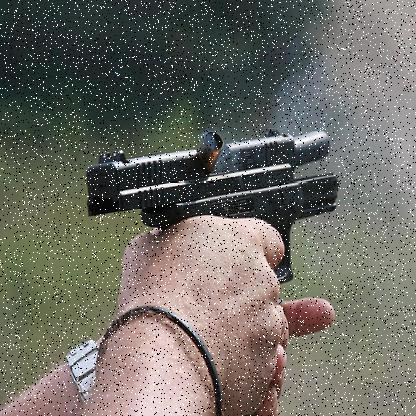pistol: (81, 128, 341, 289)
